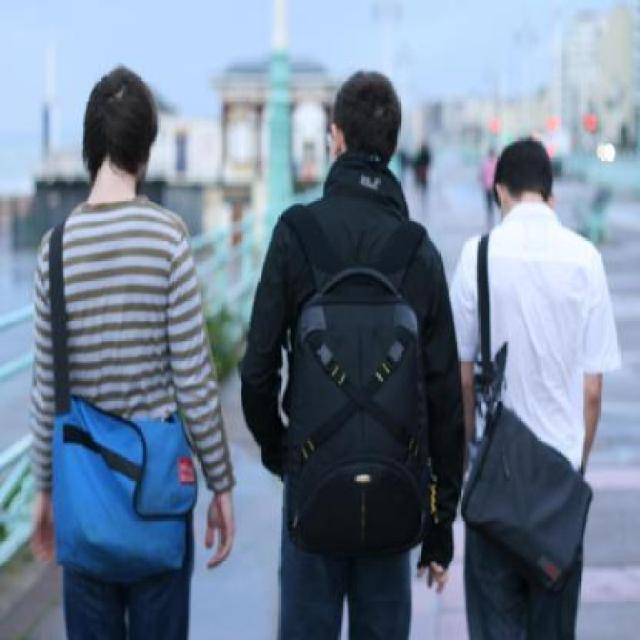backpack: (281, 257, 434, 560), (49, 388, 203, 588), (460, 400, 598, 597)
